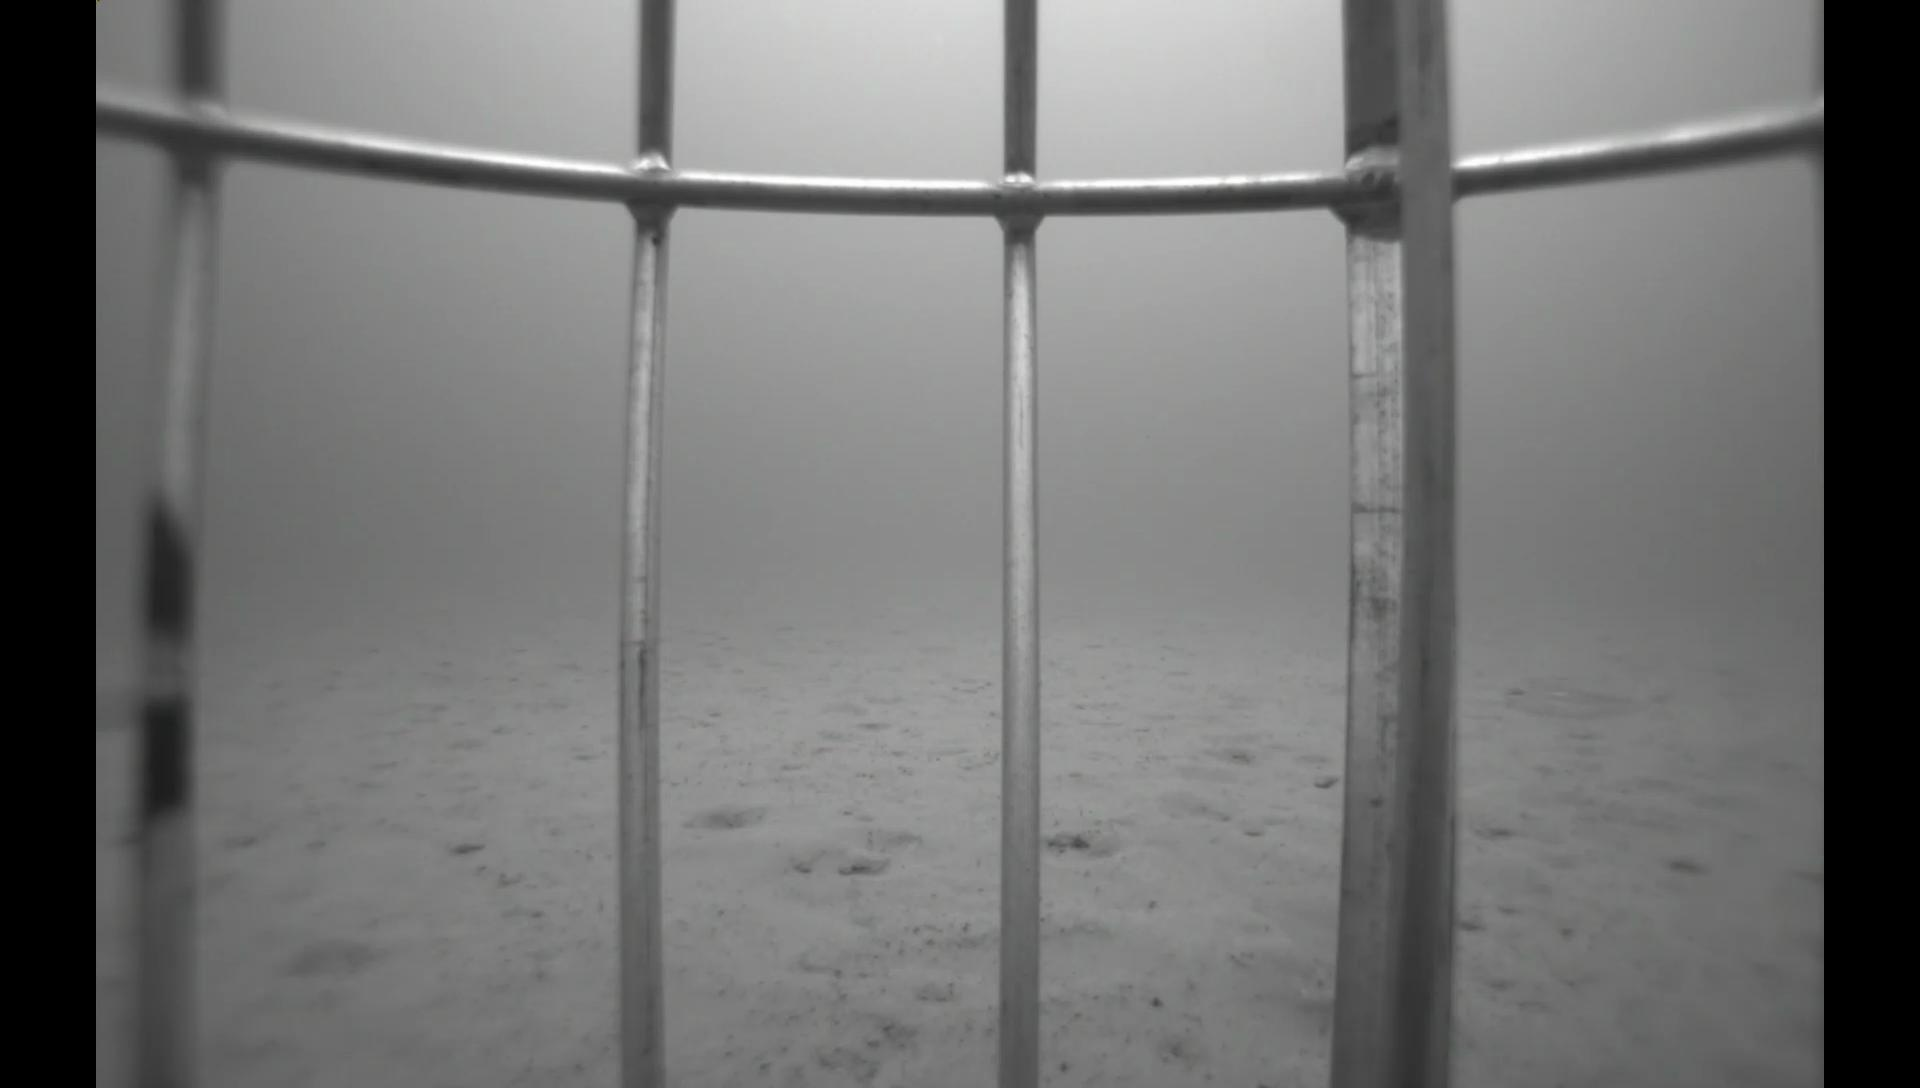CAULOLATILUSCYANOPS-170070101: (1487, 667, 1683, 735)
PRISTIPOMOIDES-170151800: (1193, 845, 1338, 981)
